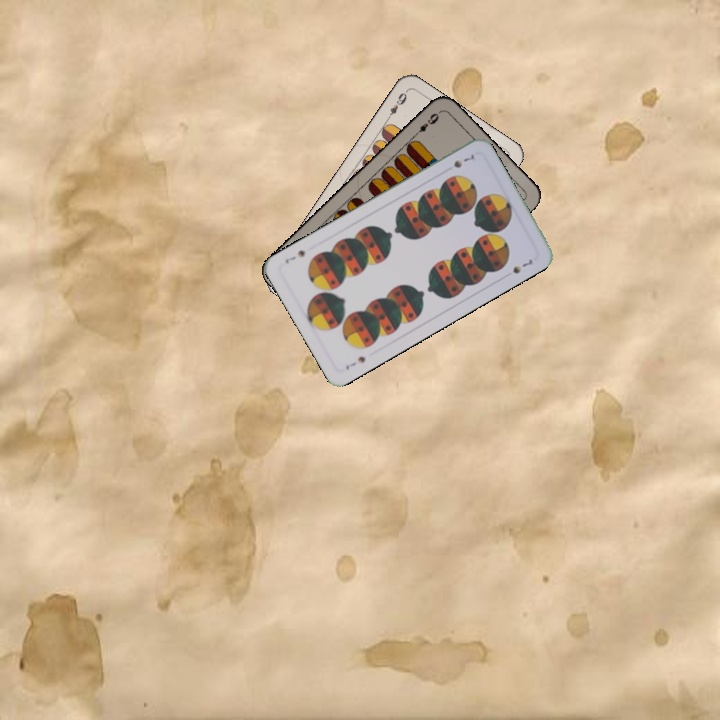E9: (382, 87, 410, 123), (410, 109, 442, 139)
S7: (449, 150, 479, 171), (341, 352, 368, 373)
